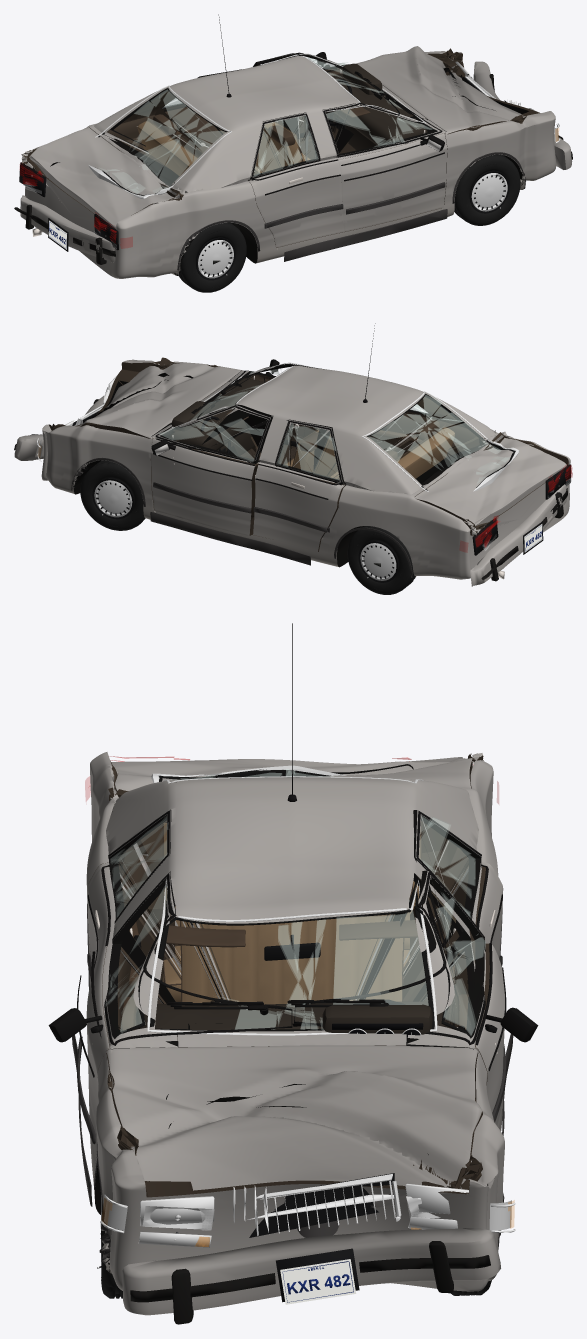
File: sedan87_front_d1_lod1.glb
The picture shows the model from 3 angles, top to bottom: view 1: azimuth 30°, elevation 25°; view 2: azimuth 150°, elevation 25°; view 3: azimuth 270°, elevation 25°; orthographic projection. The views are drawn at different scales.
Parts seen in each view (by area): view 1: Body, Door_FR, Interior, Trunk, Hood, Glass, Door_RR, Wheel_FR_mesh, Wheel_RR_mesh, Trim, Bumper_R, Glass_RR (+7 smaller); view 2: Body, Door_FL, Trunk, Interior, Hood, Door_RL, Glass, Wheel_FL_mesh, Wheel_RL_mesh, Trim, Bumper_R, Glass_RL (+10 smaller); view 3: Body, Hood, Interior, Bumper_F, Glass, Ends, Door_FL, Door_FR, Trunk, Trim_FR, Door_RL, Trim_FL (+8 smaller).
Part boxes in pixels (box(x1,y1,x2,y2)): Body: box(21, 48, 556, 278); Door_FR: box(322, 103, 447, 231); Interior: box(137, 63, 427, 176); Trunk: box(27, 127, 175, 228); Hood: box(356, 46, 524, 134); Glass: box(88, 53, 426, 198); Door_RR: box(248, 112, 343, 247); Wheel_FR_mesh: box(454, 154, 520, 225); Wheel_RR_mesh: box(178, 222, 246, 292); Trim: box(177, 14, 526, 270); Bumper_R: box(14, 195, 115, 264); Glass_RR: box(253, 115, 318, 176); Body: box(41, 357, 570, 579); Door_FL: box(150, 406, 272, 535); Trunk: box(414, 435, 566, 528); Interior: box(170, 378, 454, 479); Hood: box(78, 362, 243, 438); Door_RL: box(253, 419, 345, 552); Glass: box(171, 362, 519, 491); Wheel_FL_mesh: box(80, 460, 145, 530); Wheel_RL_mesh: box(347, 526, 415, 594); Trim: box(71, 323, 412, 577); Bumper_R: box(470, 484, 567, 586); Glass_RL: box(277, 423, 339, 480); Body: box(86, 752, 504, 1291); Hood: box(106, 1045, 482, 1190); Interior: box(136, 821, 448, 1047); Bumper_F: box(122, 1228, 500, 1324); Glass: box(147, 765, 437, 1035); Ends: box(100, 1173, 515, 1304); Door_FL: box(407, 870, 504, 1130); Door_FR: box(86, 872, 177, 1178); Trunk: box(111, 753, 472, 791); Trim_FR: box(48, 873, 292, 1144); Door_RL: box(413, 810, 503, 1029); Trim_FL: box(294, 871, 538, 1122).
Bounding box in the file's own units: 4.64 × 2.14 × 2.09.
33 materials, 5 textured.
